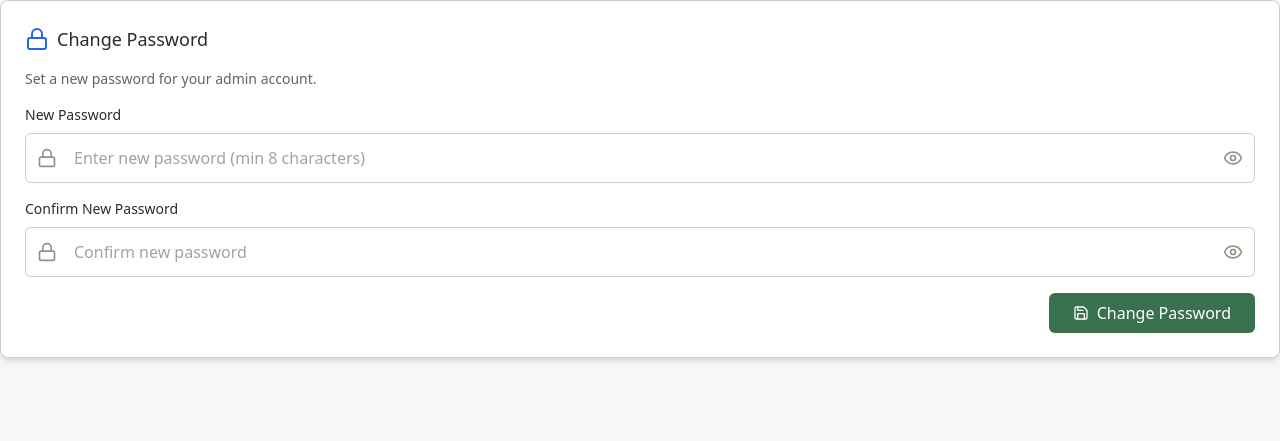
Scenario: PasswordChange › Form Validation › shows error when confirm password is empty
The image size is (1280, 441).
Step 1. Type "password123" into the password field labelled "New Password" → x=640, y=158, box [25,133,1255,183]
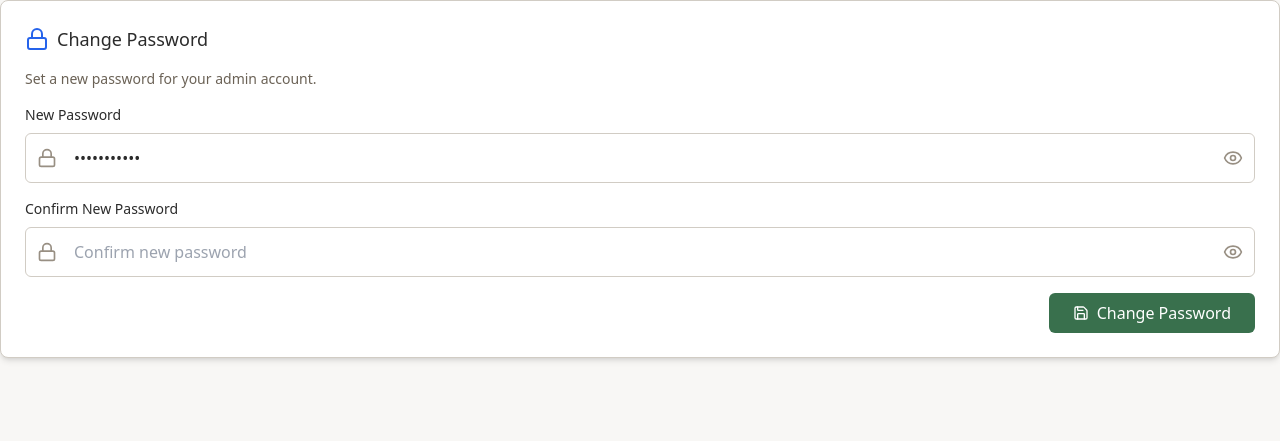
Step 2. Submit the form "New Password Confirm New Password Change Password", box [25,105,1255,333]
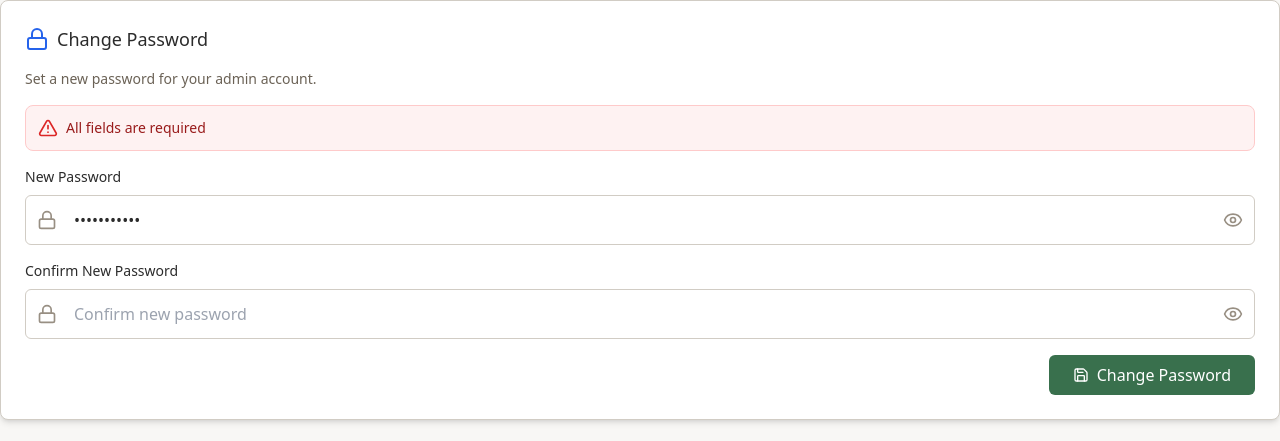
Expected: the text "All fields are required" is shown, [66,118,206,138]
